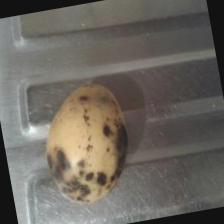Mango Overripe: (32, 70, 142, 210)
